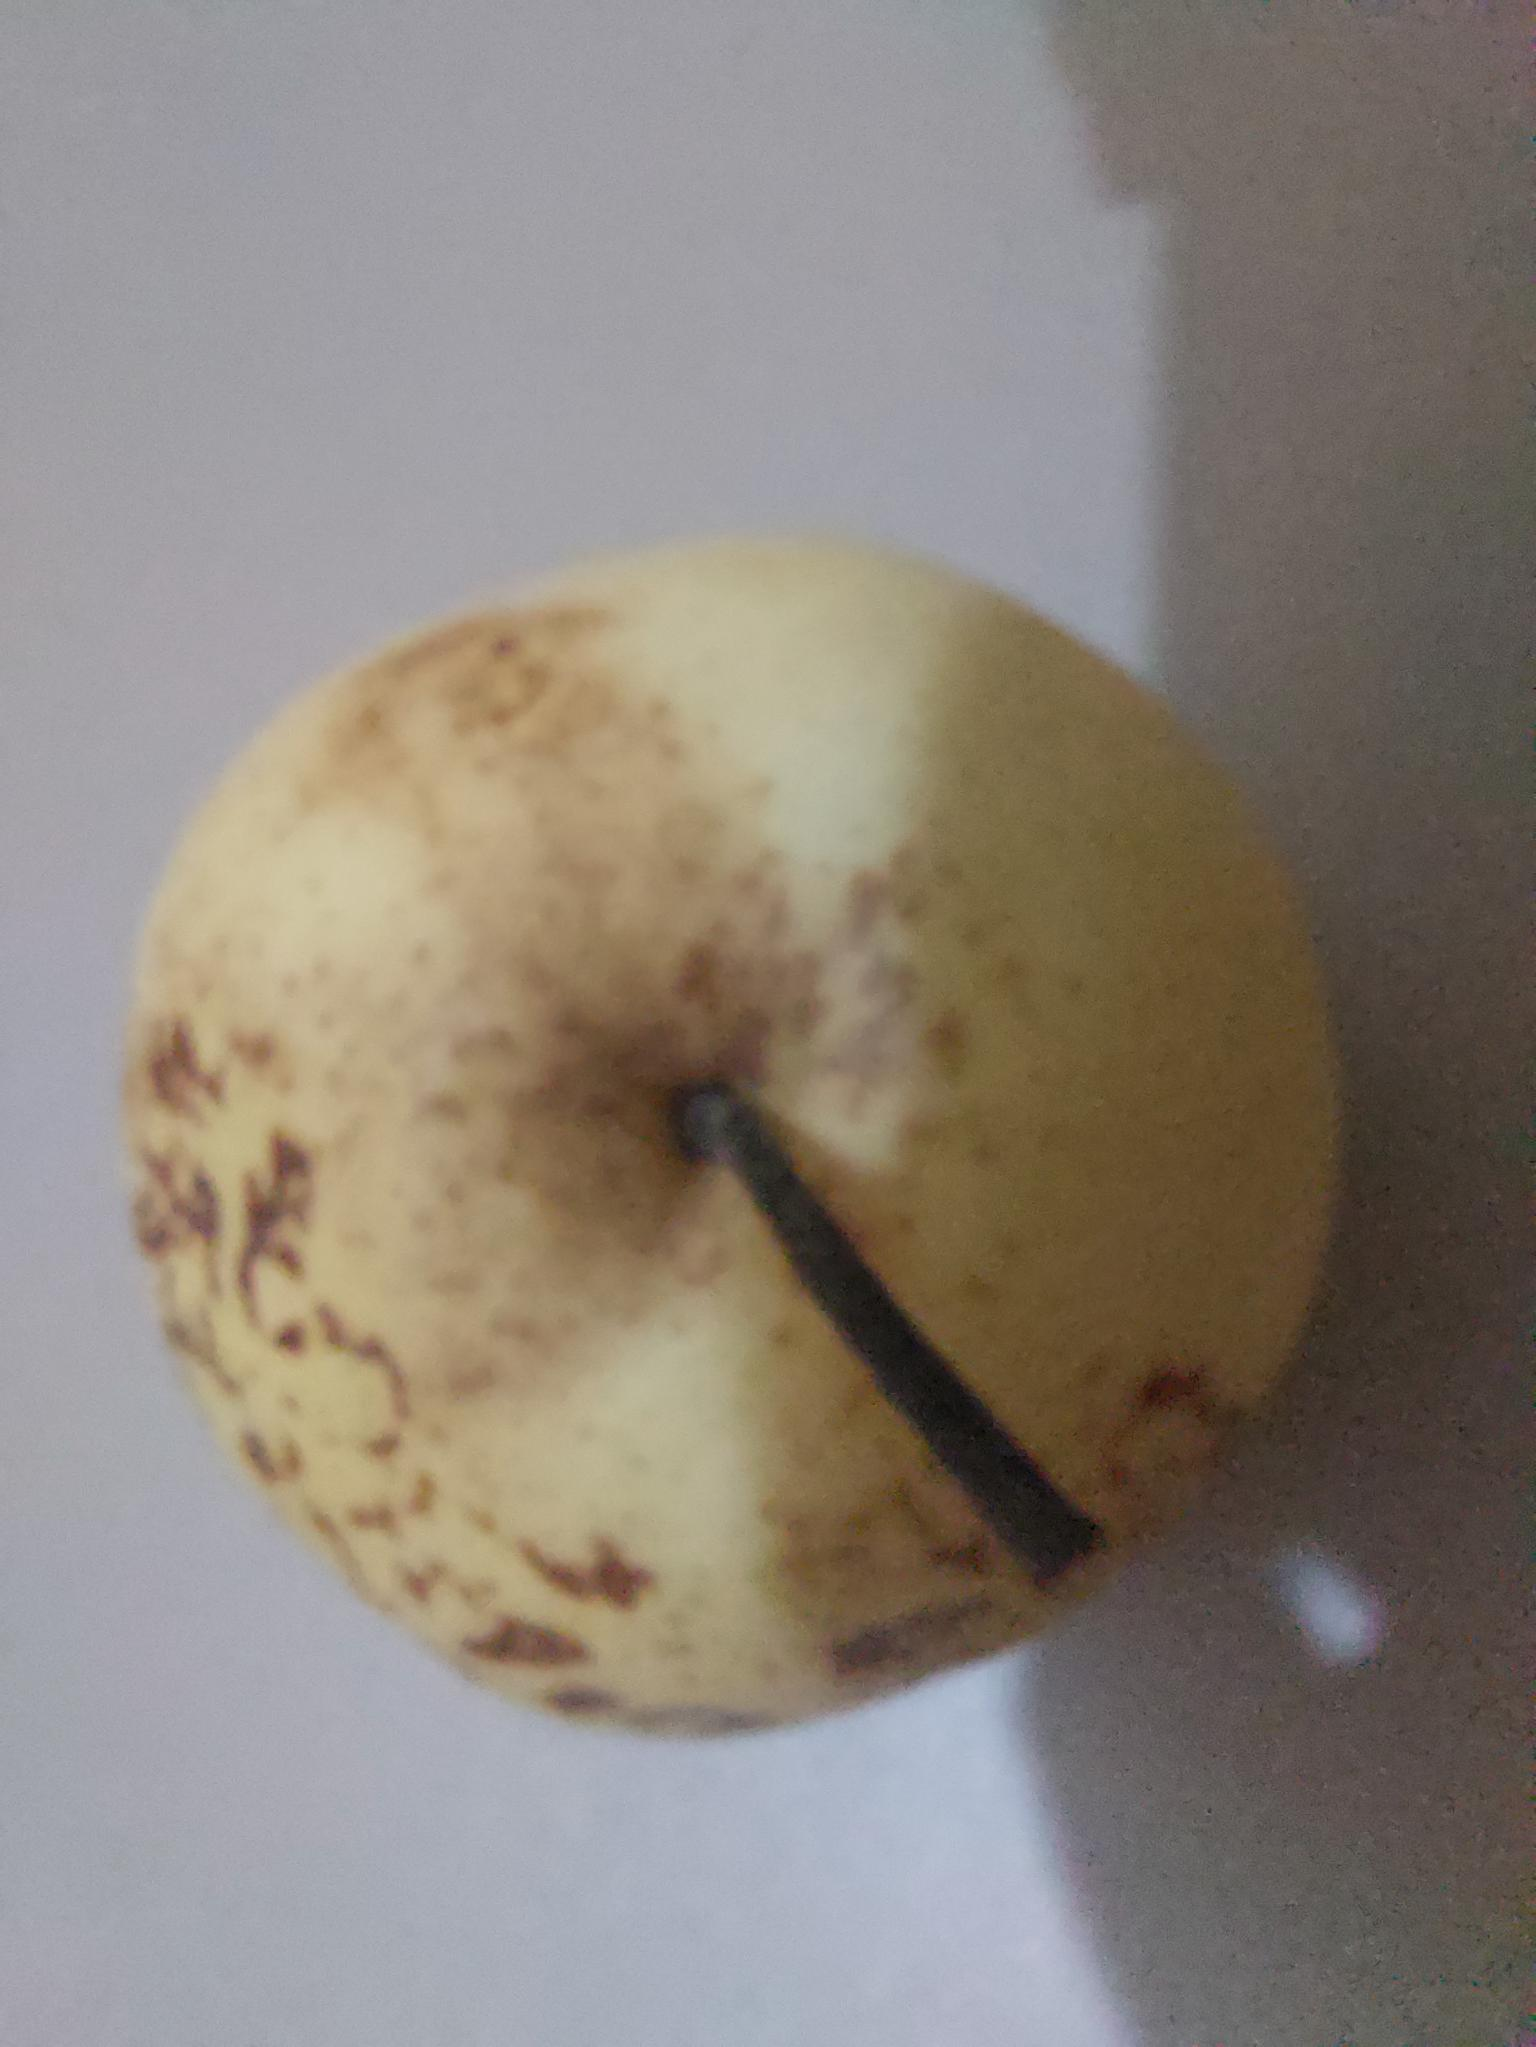Bad Pear: (84, 518, 1325, 1749)
